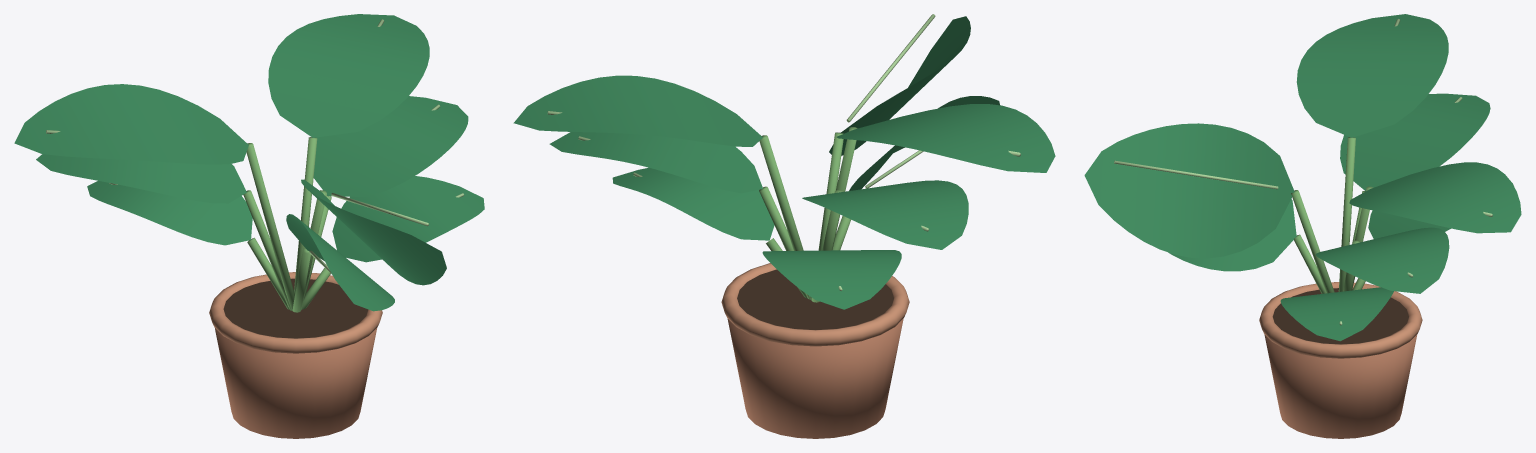
The model's file is alocasia_polly.glb.
3 renders of one model, left to right at view 1: azimuth 30°, elevation 25°; view 2: azimuth 150°, elevation 25°; view 3: azimuth 270°, elevation 25°, orthographic. The views are drawn at different scales.
Visible parts, largest first — view 1: leaf_g640_alocasia_6, leaf_g730_alocasia_7, pot_static, leaf_g370_alocasia_3, leaf_g100_alocasia_0, leaf_g460_alocasia_4, soil_static, leaf_g190_alocasia_1, leaf_g550_alocasia_5, pot_rim_static, leaf_g280_alocasia_2, stem_g730_alocasia_7 (+4 smaller); view 2: pot_static, leaf_g640_alocasia_6, leaf_g730_alocasia_7, leaf_g460_alocasia_4, leaf_g370_alocasia_3, leaf_g190_alocasia_1, leaf_g100_alocasia_0, soil_static, pot_rim_static, leaf_g550_alocasia_5, stem_g640_alocasia_6, leaf_g280_alocasia_2 (+4 smaller); view 3: leaf_g550_alocasia_5, leaf_g730_alocasia_7, pot_static, leaf_g640_alocasia_6, leaf_g460_alocasia_4, leaf_g370_alocasia_3, leaf_g100_alocasia_0, pot_rim_static, leaf_g280_alocasia_2, soil_static, leaf_g190_alocasia_1, stem_g730_alocasia_7 (+3 smaller).
Boxes of the visible parts, x1=… form: leaf_g640_alocasia_6: x1=268, y1=14, x2=429, y2=137; leaf_g730_alocasia_7: x1=14, y1=84, x2=248, y2=164; pot_static: x1=215, y1=328, x2=376, y2=438; leaf_g370_alocasia_3: x1=313, y1=96, x2=468, y2=196; leaf_g100_alocasia_0: x1=332, y1=176, x2=484, y2=262; leaf_g460_alocasia_4: x1=36, y1=154, x2=246, y2=203; soil_static: x1=223, y1=278, x2=368, y2=338; leaf_g190_alocasia_1: x1=87, y1=181, x2=252, y2=245; leaf_g550_alocasia_5: x1=301, y1=179, x2=446, y2=285; pot_rim_static: x1=209, y1=272, x2=382, y2=353; leaf_g280_alocasia_2: x1=286, y1=214, x2=394, y2=311; stem_g730_alocasia_7: x1=246, y1=143, x2=294, y2=310; pot_static: x1=727, y1=318, x2=903, y2=438; leaf_g640_alocasia_6: x1=513, y1=75, x2=762, y2=146; leaf_g730_alocasia_7: x1=836, y1=104, x2=1055, y2=172; leaf_g460_alocasia_4: x1=802, y1=180, x2=968, y2=249; leaf_g370_alocasia_3: x1=549, y1=132, x2=763, y2=193; leaf_g190_alocasia_1: x1=762, y1=250, x2=901, y2=309; leaf_g100_alocasia_0: x1=612, y1=167, x2=774, y2=240; soil_static: x1=737, y1=269, x2=893, y2=329; pot_rim_static: x1=721, y1=263, x2=909, y2=346; leaf_g550_alocasia_5: x1=829, y1=16, x2=970, y2=155; stem_g640_alocasia_6: x1=759, y1=135, x2=811, y2=300; leaf_g280_alocasia_2: x1=849, y1=96, x2=999, y2=190; leaf_g550_alocasia_5: x1=1084, y1=123, x2=1294, y2=258; leaf_g730_alocasia_7: x1=1296, y1=14, x2=1448, y2=137; pot_static: x1=1264, y1=334, x2=1417, y2=438; leaf_g640_alocasia_6: x1=1349, y1=162, x2=1521, y2=233; leaf_g460_alocasia_4: x1=1340, y1=93, x2=1490, y2=190; leaf_g370_alocasia_3: x1=1316, y1=227, x2=1449, y2=293; leaf_g100_alocasia_0: x1=1280, y1=287, x2=1393, y2=341; pot_rim_static: x1=1259, y1=282, x2=1422, y2=358; leaf_g280_alocasia_2: x1=1168, y1=199, x2=1296, y2=271; soil_static: x1=1272, y1=288, x2=1408, y2=344; leaf_g190_alocasia_1: x1=1368, y1=183, x2=1513, y2=238; stem_g730_alocasia_7: x1=1338, y1=137, x2=1355, y2=291.
Size of the model in its own units: 1.17 by 0.7885 by 1.04.
